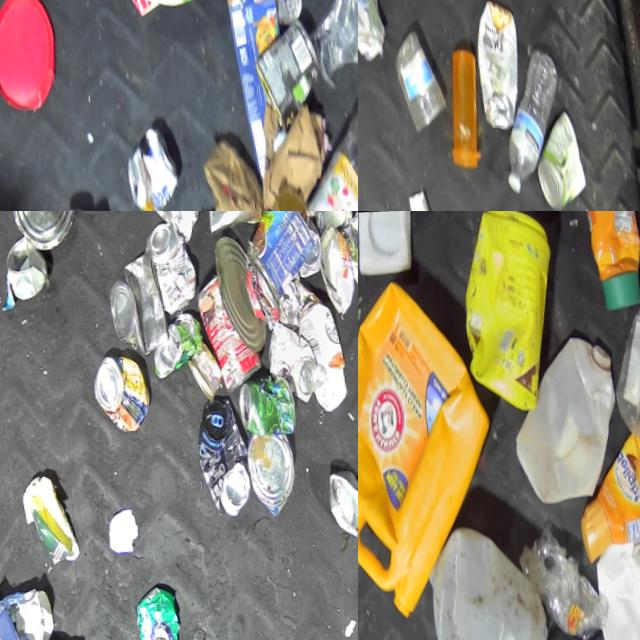can: (247, 6, 331, 131), (191, 262, 271, 391), (462, 0, 535, 133), (191, 388, 262, 515), (524, 93, 598, 209), (102, 240, 177, 354), (209, 224, 274, 349), (234, 211, 322, 300), (140, 212, 204, 313), (121, 116, 187, 211), (90, 345, 157, 433), (262, 308, 324, 401), (244, 423, 305, 513), (235, 365, 300, 434), (313, 212, 358, 310), (149, 303, 208, 376), (133, 577, 192, 640), (1, 227, 53, 297), (1, 211, 86, 253), (185, 332, 228, 397), (326, 459, 358, 537), (292, 211, 325, 273), (358, 0, 389, 64), (199, 211, 267, 231), (262, 0, 306, 21), (310, 211, 355, 228)
milk_jug: (501, 320, 633, 507), (419, 508, 566, 640), (588, 530, 640, 640)
non_white_jug: (358, 259, 521, 632), (446, 211, 571, 416)
plastic_bottle: (490, 32, 582, 198), (290, 78, 358, 211)
